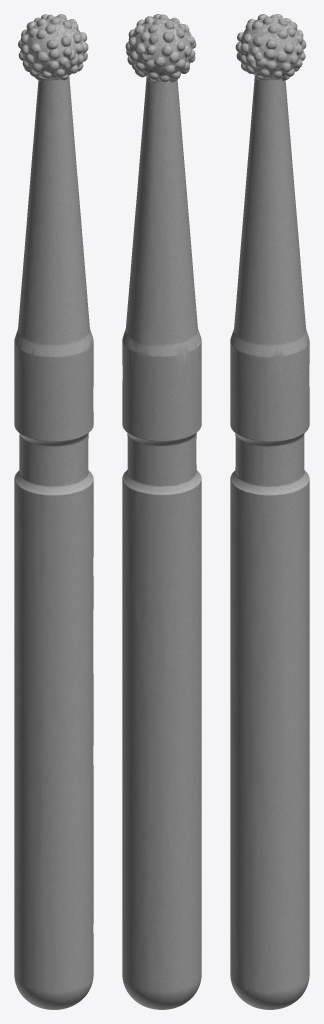
File: Meshy_AI_1014_0916223341_texture.fbx
3 views of the same model, side by side, from view 1: azimuth 30°, elevation 25°; view 2: azimuth 150°, elevation 25°; view 3: azimuth 330°, elevation 25° (orthographic).
Visible parts, largest first — view 1: Mesh_0; view 2: Mesh_0; view 3: Mesh_0.
Part boxes in pixels (x1,y1,x2,y2): Mesh_0: [14, 14, 93, 1009]; Mesh_0: [122, 14, 201, 1009]; Mesh_0: [230, 14, 309, 1009].
Size of the model in its own units: 13.86 by 190 by 13.85.
Materials: 1 (1 with a texture image).
